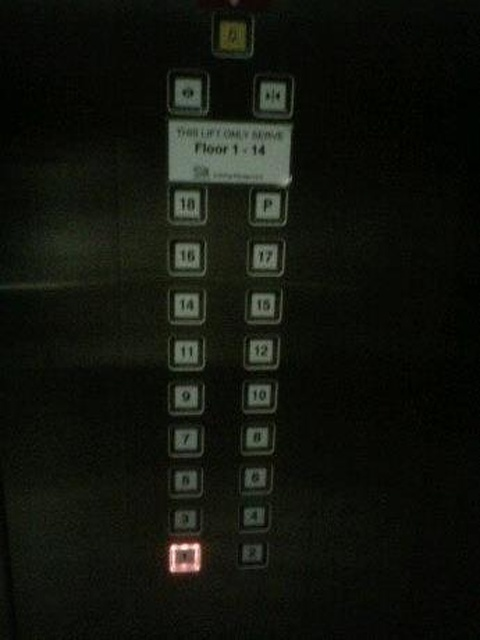1: (167, 543, 200, 572)
10: (241, 379, 278, 413)
11: (168, 335, 207, 371)
12: (242, 334, 280, 372)
14: (166, 287, 207, 326)
15: (243, 287, 284, 324)
16: (167, 238, 207, 276)
17: (246, 237, 286, 278)
18: (166, 182, 207, 227)
2: (236, 540, 269, 569)
3: (168, 506, 204, 538)
4: (236, 501, 273, 533)
5: (169, 467, 204, 500)
6: (238, 462, 273, 496)
7: (168, 423, 203, 458)
8: (240, 421, 274, 456)
9: (167, 379, 205, 417)
P: (248, 185, 287, 227)
alarm: (210, 12, 254, 57)
close: (252, 74, 294, 120)
open: (167, 70, 210, 117)
